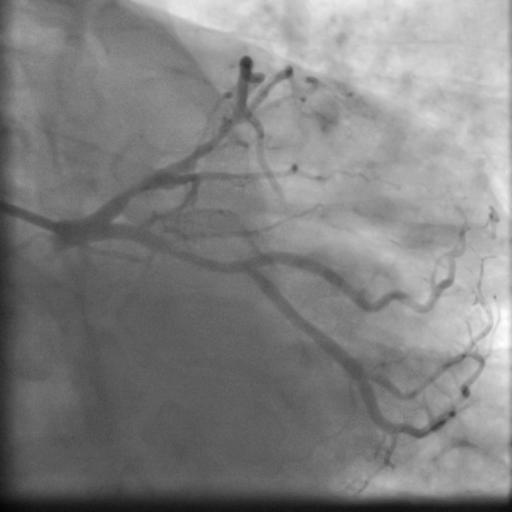Stenosis: (119, 174, 154, 196)
